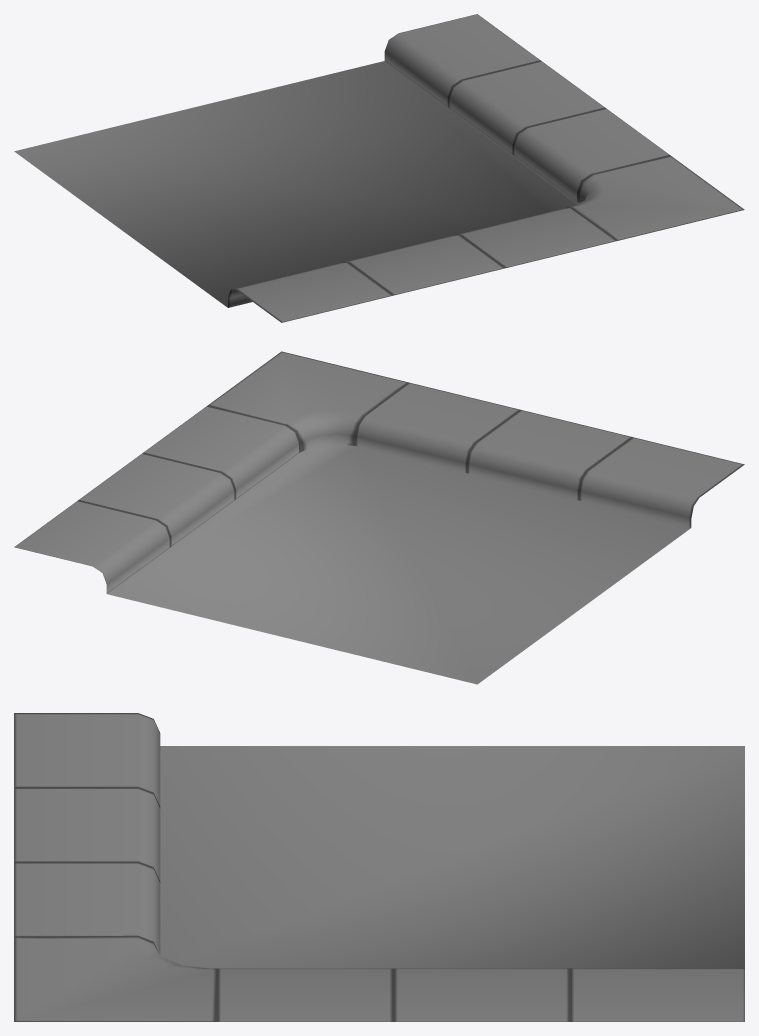
File: PavementInnerCorner.glb
3 renders of one model, top to bottom at view 1: azimuth 30°, elevation 25°; view 2: azimuth 150°, elevation 25°; view 3: azimuth 270°, elevation 25°, orthographic. The views are drawn at different scales.
Visible parts, largest first — view 1: PavementInnerCorner; view 2: PavementInnerCorner; view 3: PavementInnerCorner.
Part boxes in pixels (x1=…): PavementInnerCorner: x1=14, y1=14, x2=744, y2=322; PavementInnerCorner: x1=14, y1=351, x2=744, y2=684; PavementInnerCorner: x1=14, y1=713, x2=744, y2=1021.
Bounding box in the file's own units: 2 × 0.1 × 2.
1 material, 1 textured.
